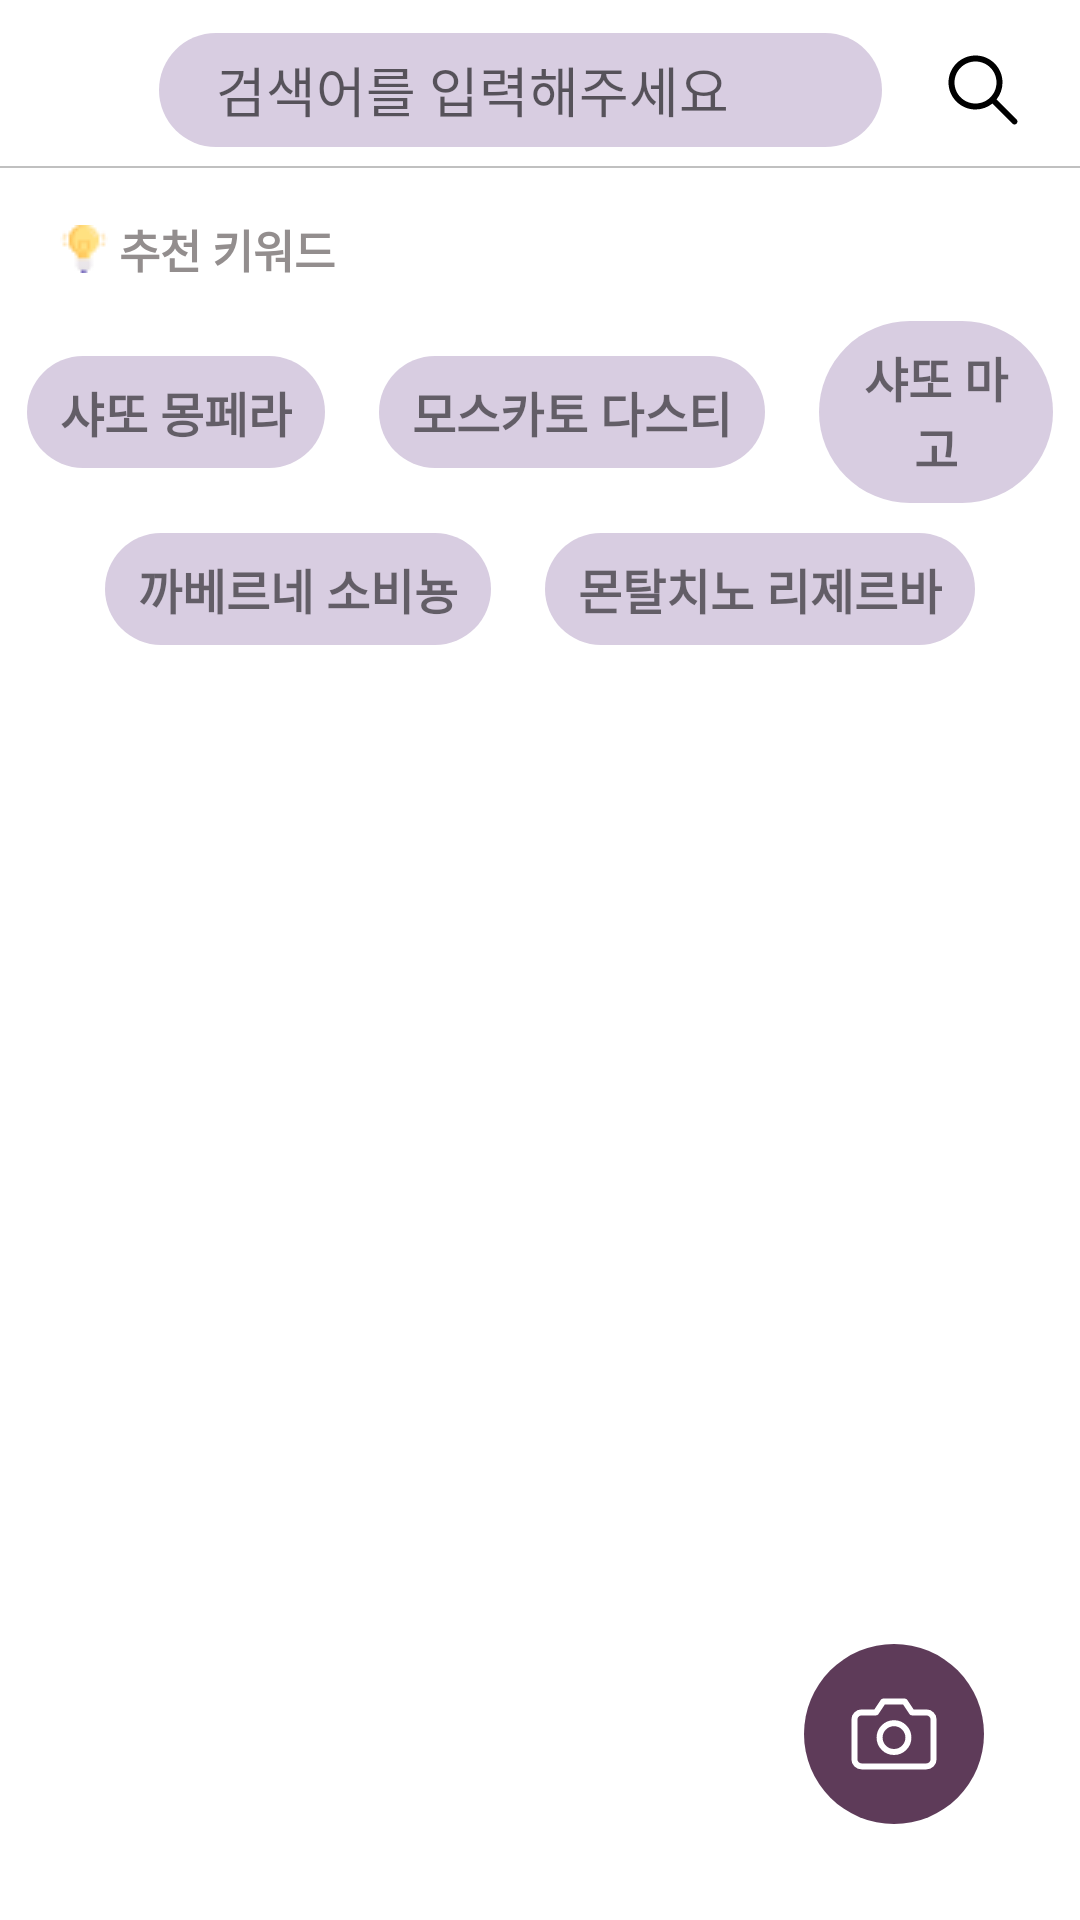

Icon click points for this 1080 × 1920 phone screenshot, format (x=x, y=y):
camera floating: (x=894, y=1734)
search: (x=983, y=90)
